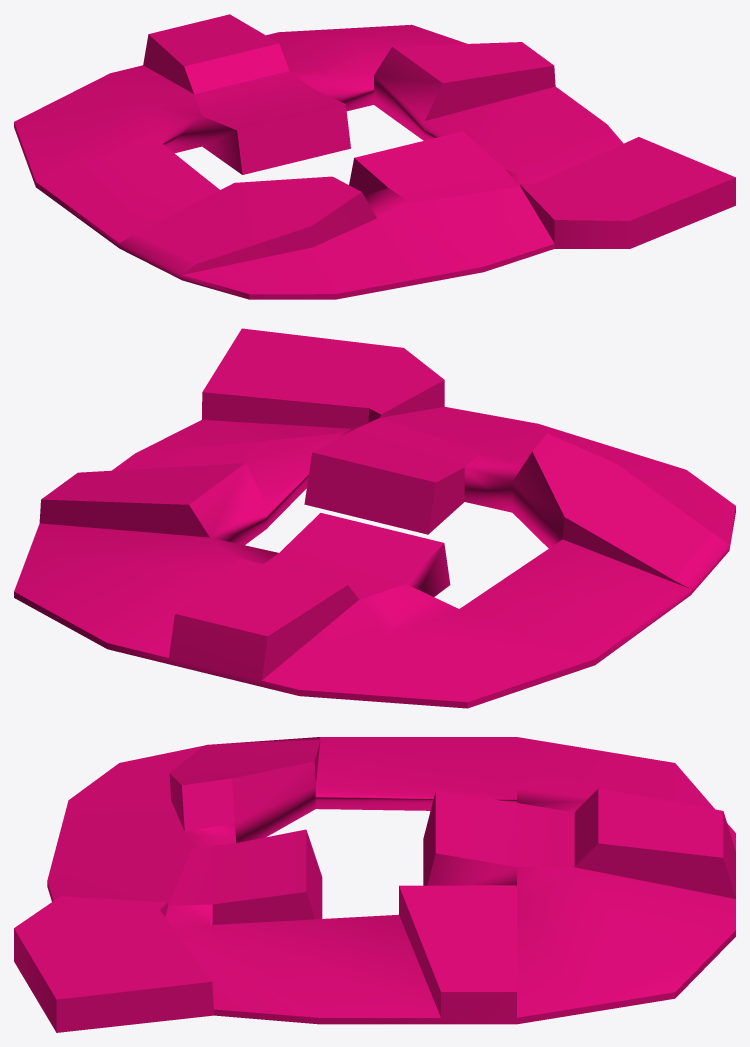
The model's file is S_Floor_Break_01.fbx.
The picture shows the model from 3 angles, top to bottom: view 1: azimuth 30°, elevation 25°; view 2: azimuth 150°, elevation 25°; view 3: azimuth 270°, elevation 25°; orthographic projection. The views are drawn at different scales.
Visible parts, largest first — view 1: S_Floor_Break_01; view 2: S_Floor_Break_01; view 3: S_Floor_Break_01.
Part boxes in pixels (x1,y1,x2,y2): S_Floor_Break_01: [14, 14, 735, 299]; S_Floor_Break_01: [14, 328, 735, 708]; S_Floor_Break_01: [14, 737, 735, 1032].
Bounding box in the file's own units: 150 × 16.47 × 157.
